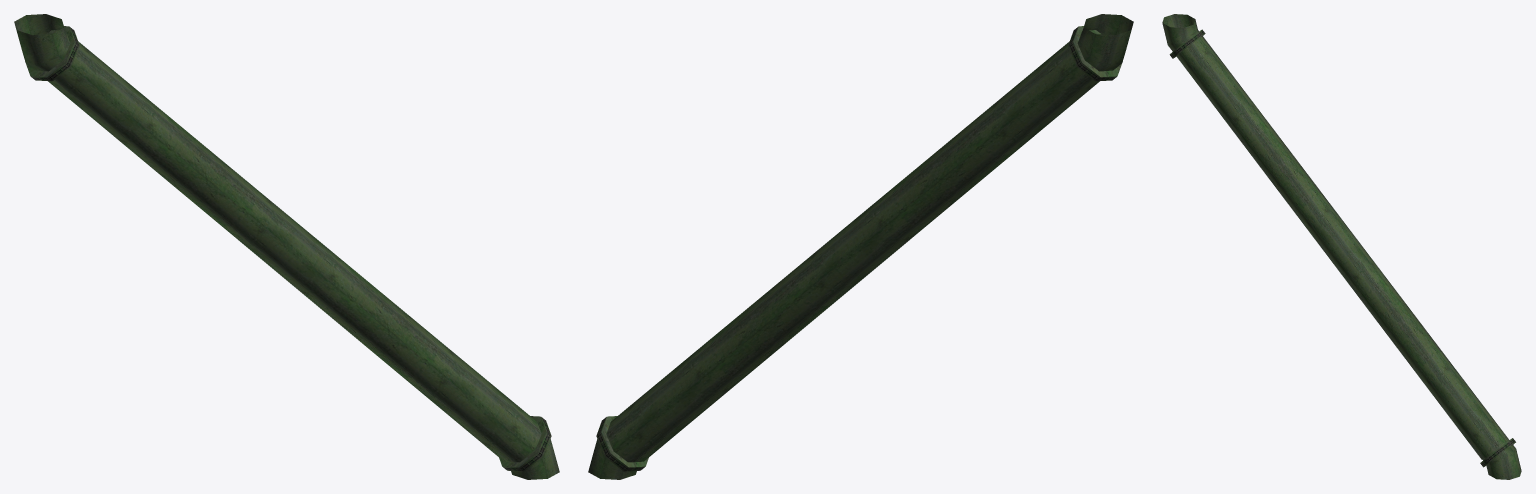
File: 45_deg_green_8m.fbx
3 renders of one model, left to right at view 1: azimuth 30°, elevation 25°; view 2: azimuth 150°, elevation 25°; view 3: azimuth 330°, elevation 25°, orthographic. The views are drawn at different scales.
Parts seen in each view (by area): view 1: mesh_0; view 2: mesh_0; view 3: mesh_0.
Boxes of the visible parts, box(x1,y1,x2,y2) form: mesh_0: box(14, 14, 559, 479); mesh_0: box(588, 14, 1133, 479); mesh_0: box(1162, 14, 1521, 479).
Size of the model in its own units: 600 by 600 by 60.93.
1 material, 1 textured.
